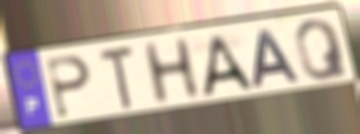A: (200, 32, 256, 100), (251, 26, 303, 90)
H: (139, 35, 204, 109)
P: (44, 54, 93, 121)
Q: (292, 17, 352, 84)
T: (97, 44, 137, 114)
